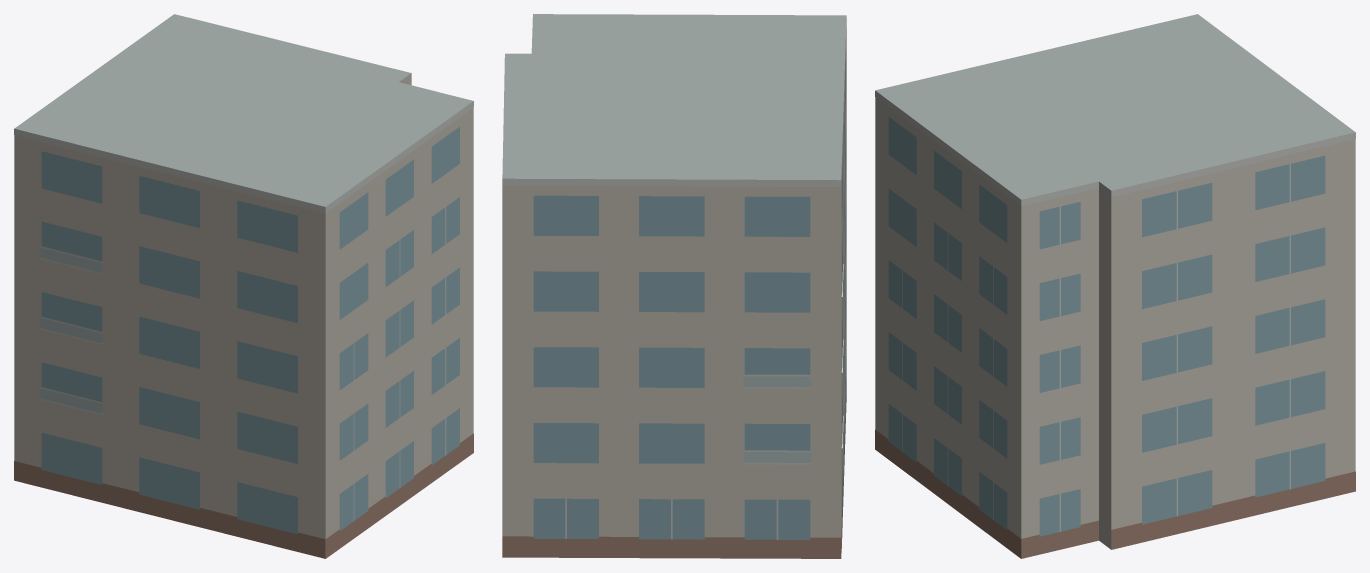
File: survey-upis-32912439.glb
The picture shows the model from 3 angles, left to right: view 1: azimuth 30°, elevation 25°; view 2: azimuth 150°, elevation 25°; view 3: azimuth 270°, elevation 25°; orthographic projection. The views are drawn at different scales.
Visible parts, largest first — view 1: survey-upis-32912439.tmp; view 2: survey-upis-32912439.tmp; view 3: survey-upis-32912439.tmp.
Part boxes in pixels (x1=…): survey-upis-32912439.tmp: x1=14, y1=14, x2=473, y2=558; survey-upis-32912439.tmp: x1=502, y1=14, x2=846, y2=558; survey-upis-32912439.tmp: x1=875, y1=14, x2=1355, y2=558.
Bounding box in the file's own units: 14.71 × 13.25 × 16.08.
